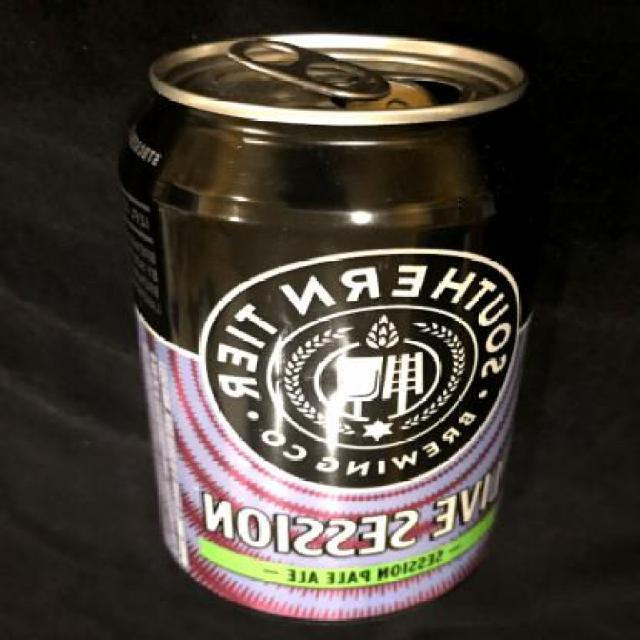can: (117, 26, 548, 637)
